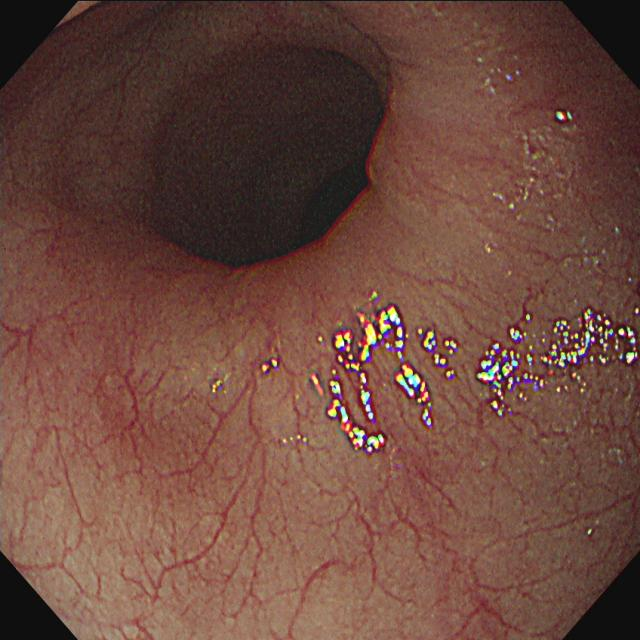E: (167, 70, 400, 287)
U: (327, 304, 459, 458), (477, 308, 640, 417), (262, 358, 280, 375), (556, 110, 574, 124)
